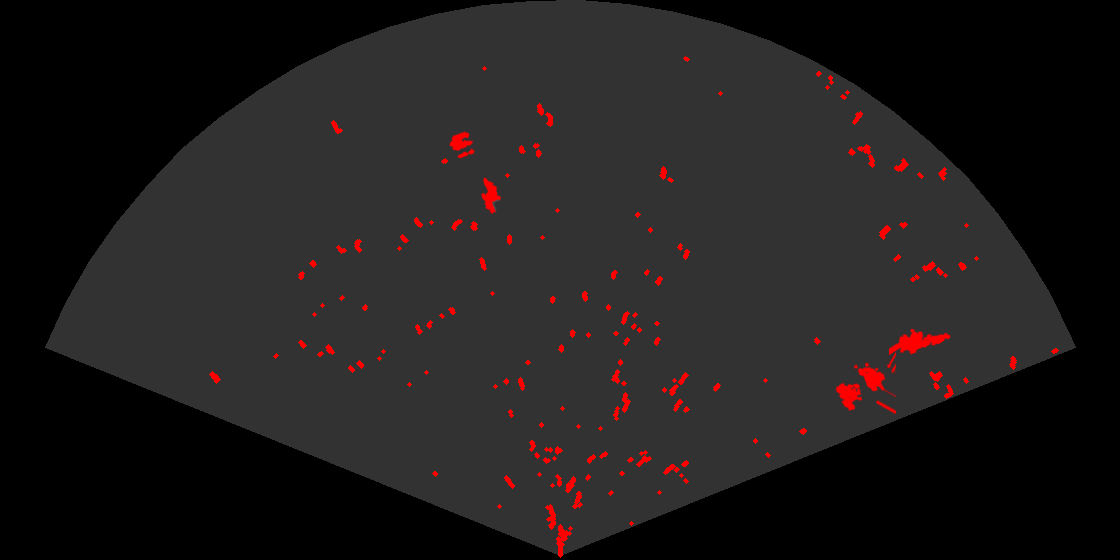AUV: (480, 176, 503, 216)
ball: (448, 130, 476, 160)
cage: (834, 350, 896, 416)
frogman: (889, 327, 952, 357)
